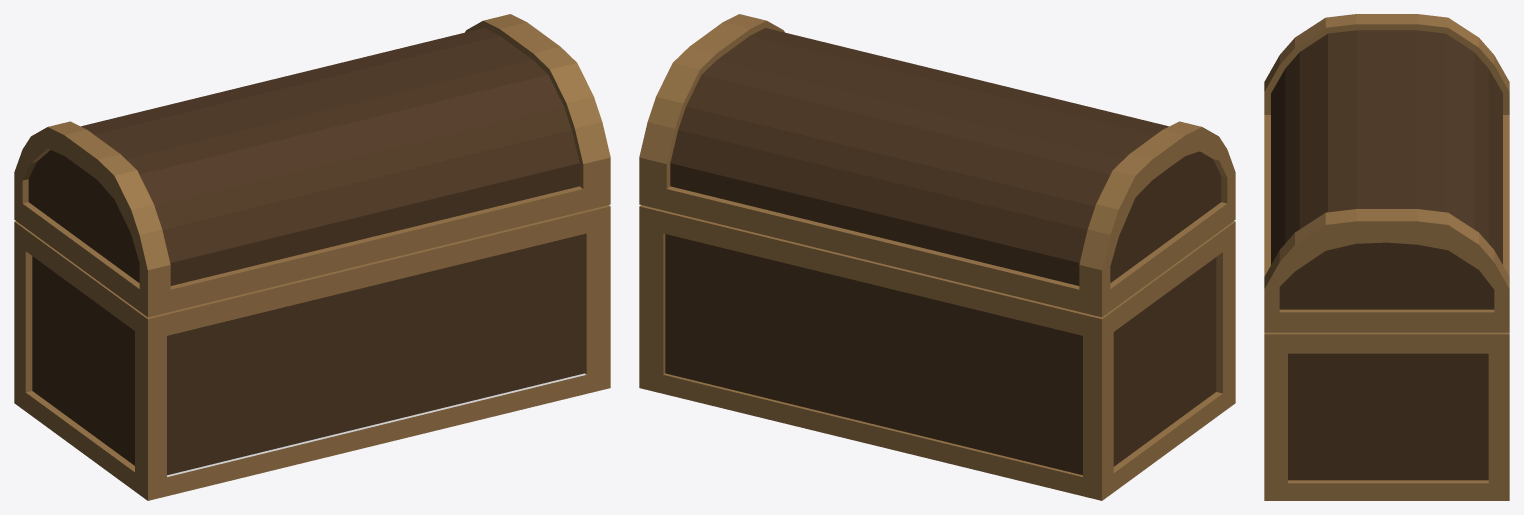
File: ClockworkPixie_Test_Chest.fbx
3 renders of one model, left to right at view 1: azimuth 30°, elevation 25°; view 2: azimuth 150°, elevation 25°; view 3: azimuth 270°, elevation 25°, orthographic. The views are drawn at different scales.
Parts seen in each view (by area): view 1: Lid, Box; view 2: Lid, Box; view 3: Lid, Box.
Part boxes in pixels (x1=…): Lid: x1=14, y1=14, x2=610, y2=317; Box: x1=14, y1=205, x2=610, y2=500; Lid: x1=639, y1=14, x2=1235, y2=317; Box: x1=639, y1=205, x2=1235, y2=500; Lid: x1=1264, y1=14, x2=1509, y2=332; Box: x1=1264, y1=332, x2=1509, y2=500.
Bounding box in the file's own units: 400 × 200 × 252.
